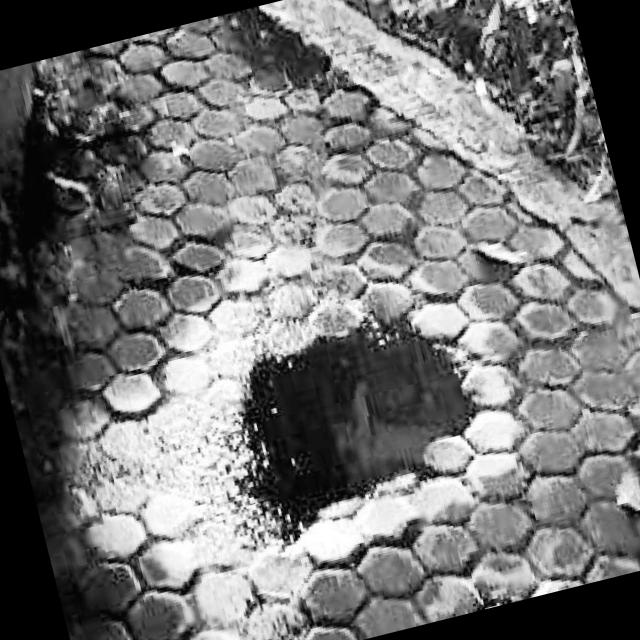Pothole: (162, 254, 538, 583)
